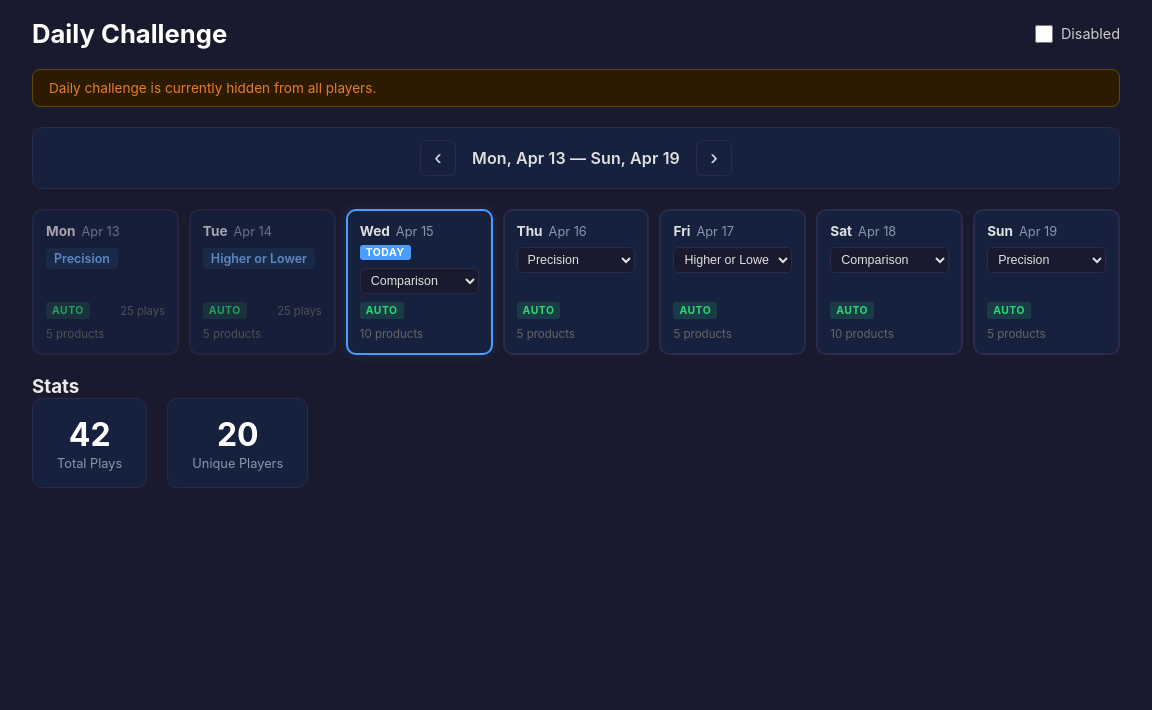
it: AdminDailyModePage › shows round detail panel when a day card is clicked
Click the button "Wed Apr 15 Today Auto 10 products" at (419,282), box x1=346 y1=209 x2=493 y2=355
(page scrolled)
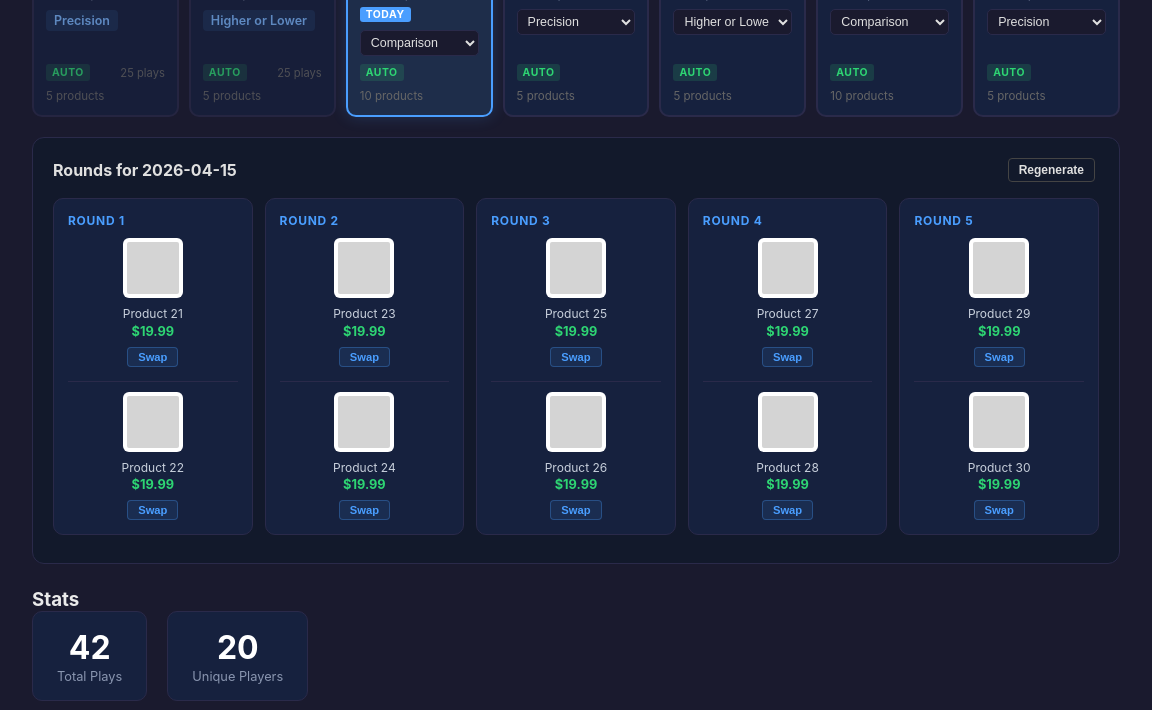
Check: the element with test id "round-detail-panel" is shown, box x1=32 y1=137 x2=1120 y2=564
